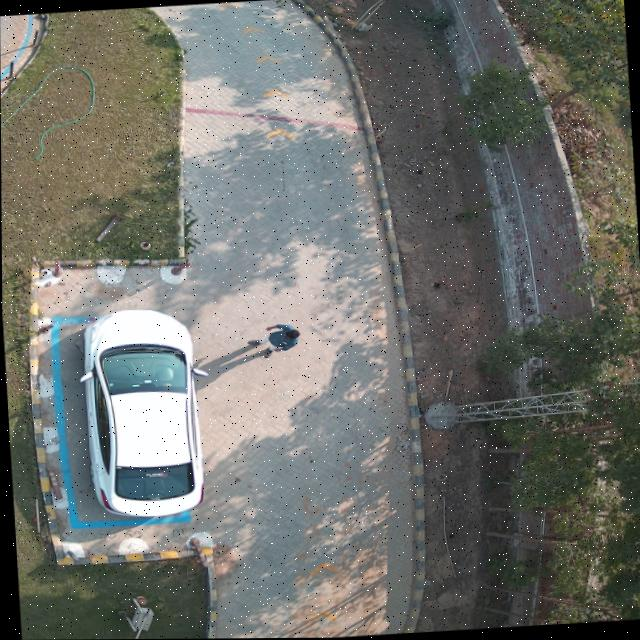car: (78, 310, 203, 518)
